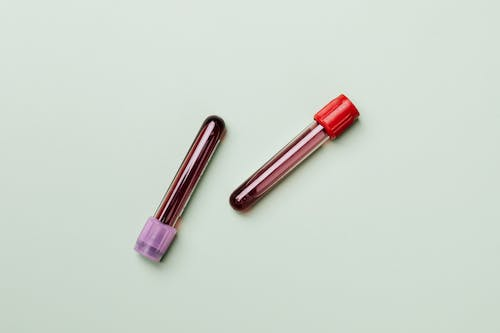blood: (228, 117, 327, 213), (155, 113, 226, 228)
